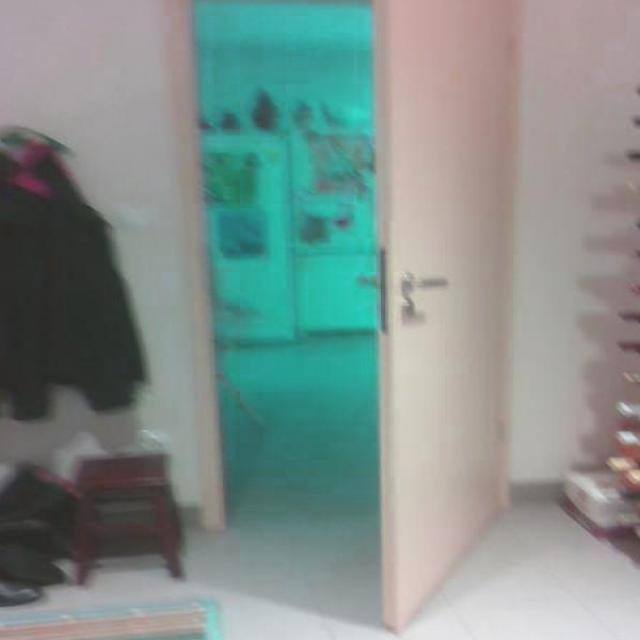door: (350, 0, 518, 628)
